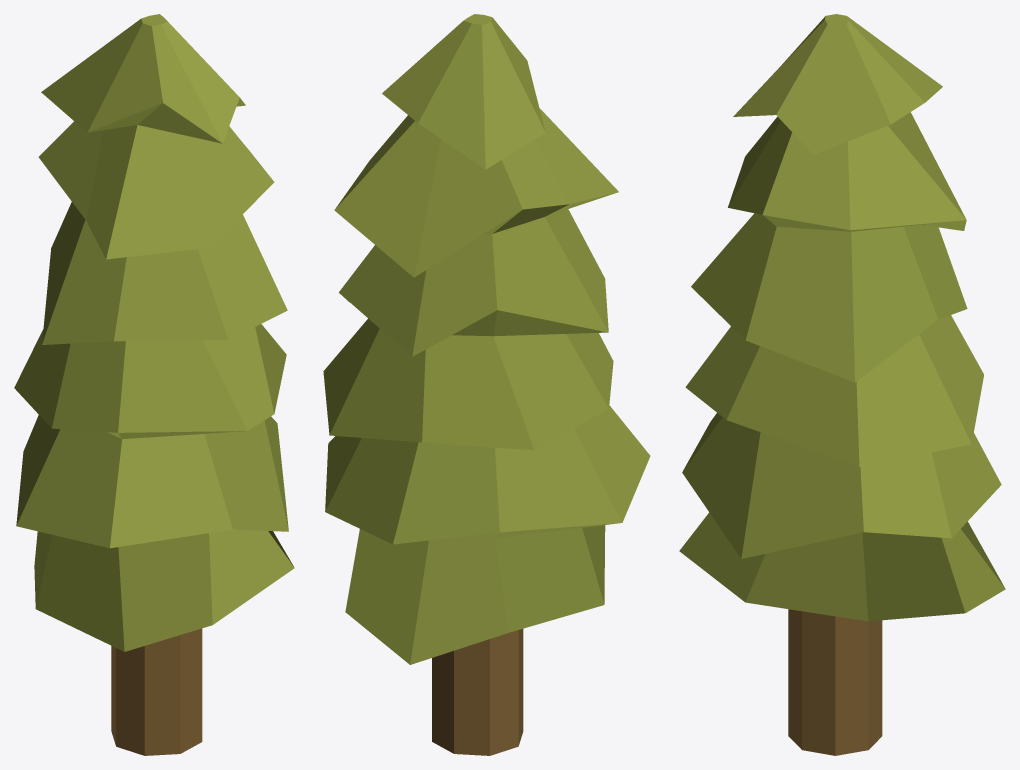
File: Tree_pine_5.fbx
3 views of the same model, side by side, from view 1: azimuth 30°, elevation 25°; view 2: azimuth 150°, elevation 25°; view 3: azimuth 270°, elevation 25° (orthographic).
Parts seen in each view (by area): view 1: pinetree_cylinder; view 2: pinetree_cylinder; view 3: pinetree_cylinder.
Part boxes in pixels (x1,y1,x2,y2): pinetree_cylinder: (14, 14, 294, 755); pinetree_cylinder: (323, 14, 650, 755); pinetree_cylinder: (679, 14, 1005, 755).
Size of the model in its own units: 2.05 by 4.94 by 2.04.
